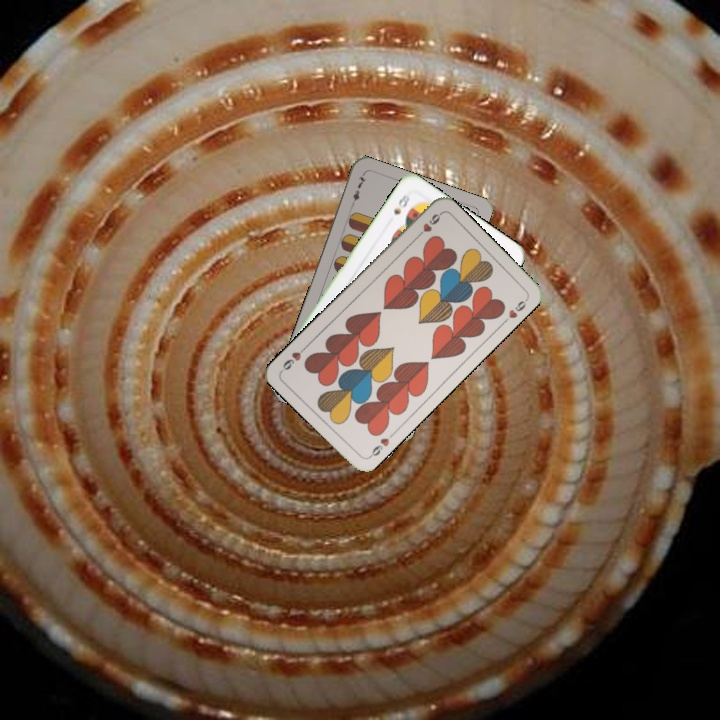E7: (347, 170, 369, 210)
H9: (412, 209, 444, 241), (365, 434, 392, 461)
S8: (389, 190, 412, 217)
